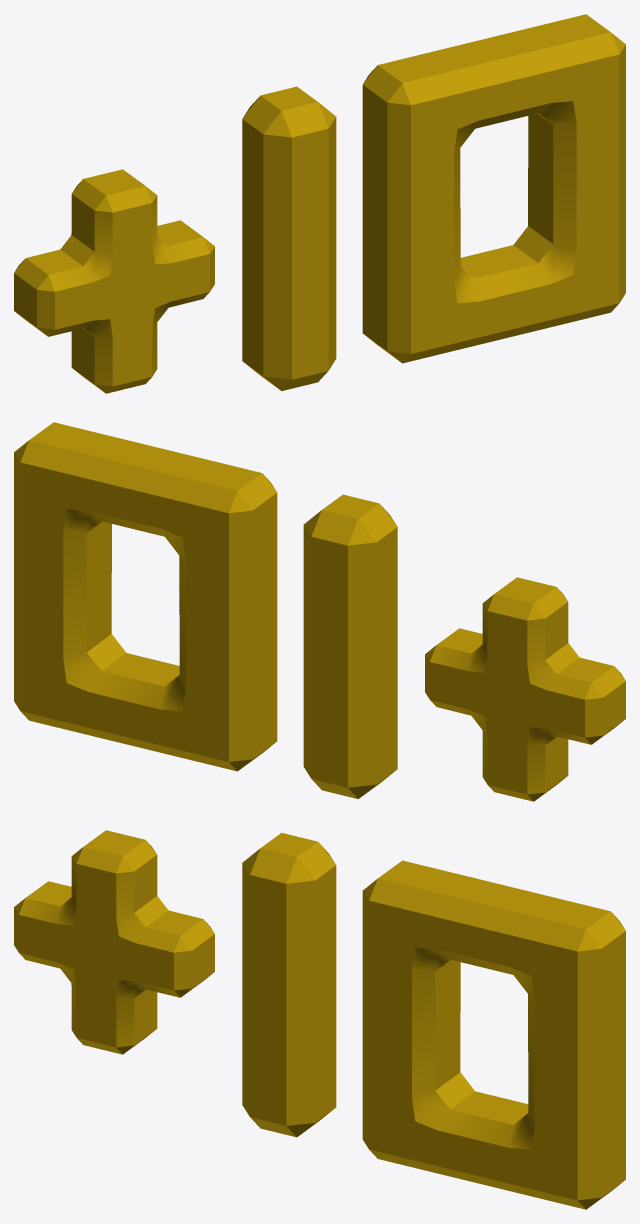
Rendered from plusten.fbx.
3 renders of one model, top to bottom at view 1: azimuth 30°, elevation 25°; view 2: azimuth 150°, elevation 25°; view 3: azimuth 330°, elevation 25°, orthographic.
Visible parts, largest first — view 1: pCube6; view 2: pCube6; view 3: pCube6.
Boxes of the visible parts, left/top/right/bottom form: pCube6: left=14, top=14, right=625, bottom=393; pCube6: left=14, top=422, right=625, bottom=801; pCube6: left=14, top=830, right=625, bottom=1209.
Size of the model in its own units: 3.89 by 1.77 by 0.4822.
